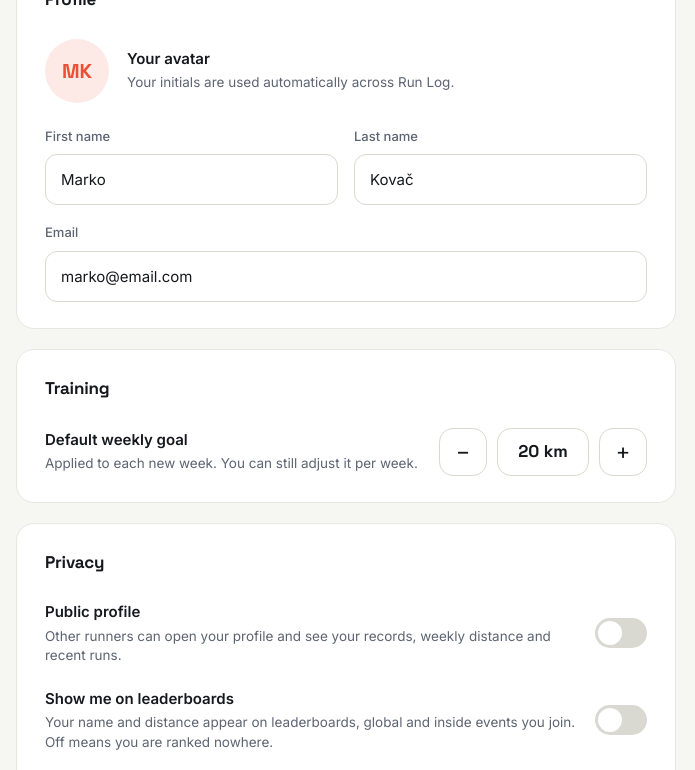
Scenario: Settings profile card (RUN-37) › requires the last name too, matching the Sign up rules (WEL-5)
Clear the field labelled "Last name" at coordinates (500, 180), box [354,154,647,205]
(page scrolled)
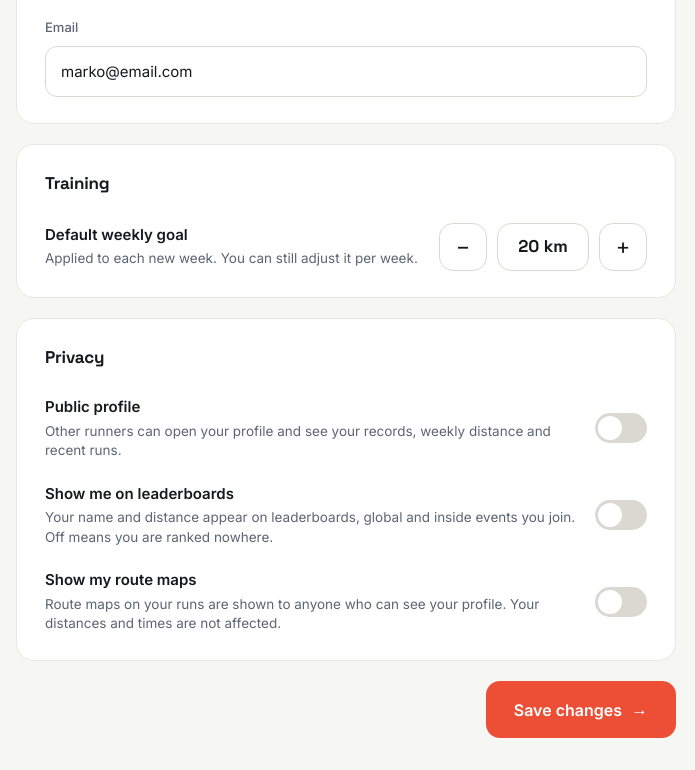
Click the button "Save changes →" at coordinates (581, 710), box [486,681,676,738]
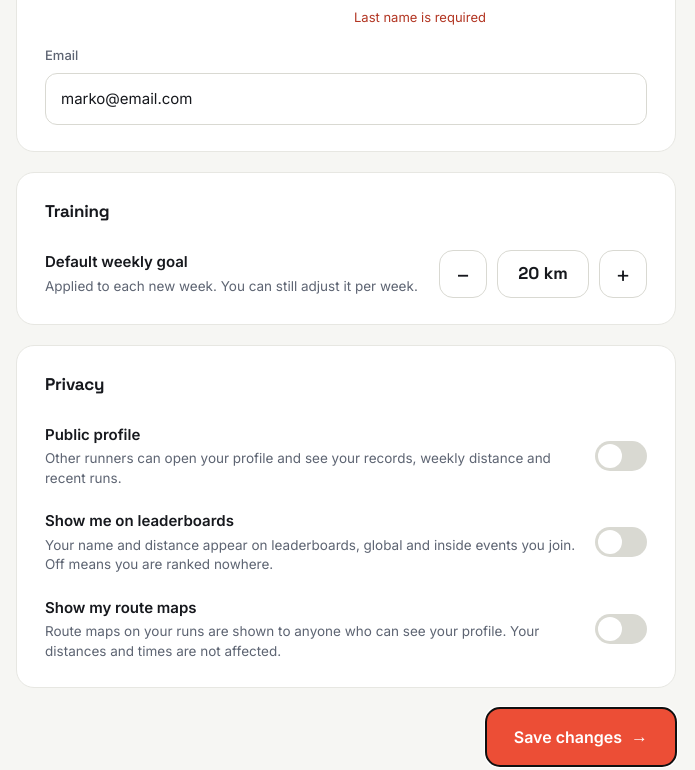
Expected: the message reads "Last name is required", [354,9,486,25]
